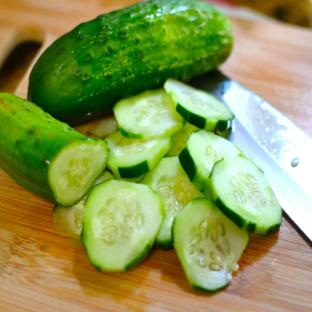Cucumber: (28, 0, 232, 124), (0, 94, 108, 206), (82, 180, 163, 271), (173, 198, 248, 292), (141, 157, 203, 249), (211, 155, 282, 234), (179, 130, 242, 198), (164, 79, 233, 131), (114, 89, 184, 138), (107, 131, 172, 178), (53, 196, 87, 238), (168, 123, 198, 156), (87, 115, 118, 139)
